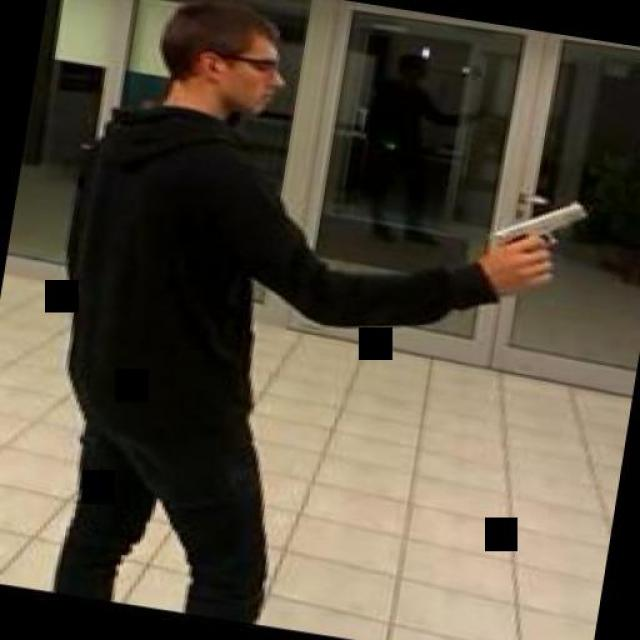gun: (477, 185, 588, 289)
